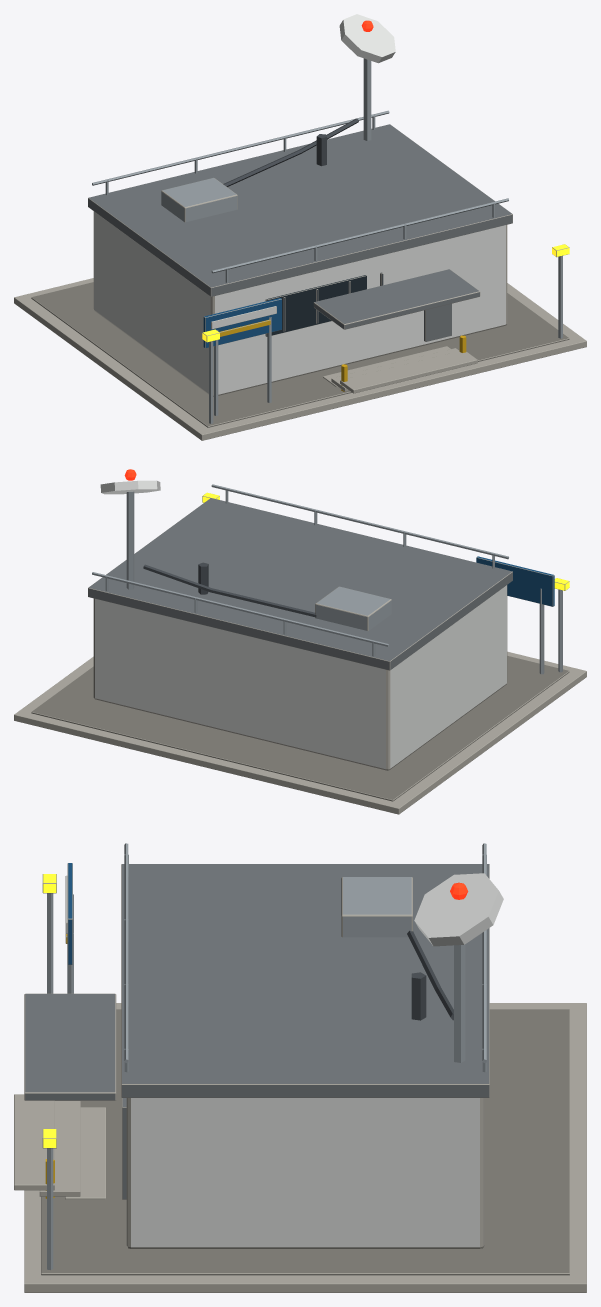
File: gam_explorer.glb
The picture shows the model from 3 angles, top to bottom: view 1: azimuth 30°, elevation 25°; view 2: azimuth 150°, elevation 25°; view 3: azimuth 270°, elevation 25°; orthographic projection. The views are drawn at different scales.
Parts seen in each view (by area): view 1: gam_explorer; view 2: gam_explorer; view 3: gam_explorer.
Part boxes in pixels (bbox=[...]): gam_explorer: bbox=[14, 14, 586, 440]; gam_explorer: bbox=[14, 469, 586, 814]; gam_explorer: bbox=[14, 843, 586, 1292].
Size of the model in its own units: 13 by 7.68 by 11.2.
